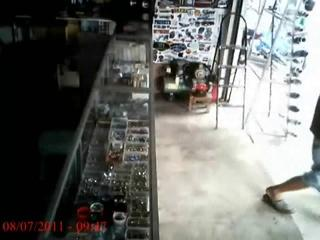Normal: (264, 89, 320, 214)
